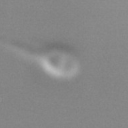normal: (1, 30, 41, 64)
